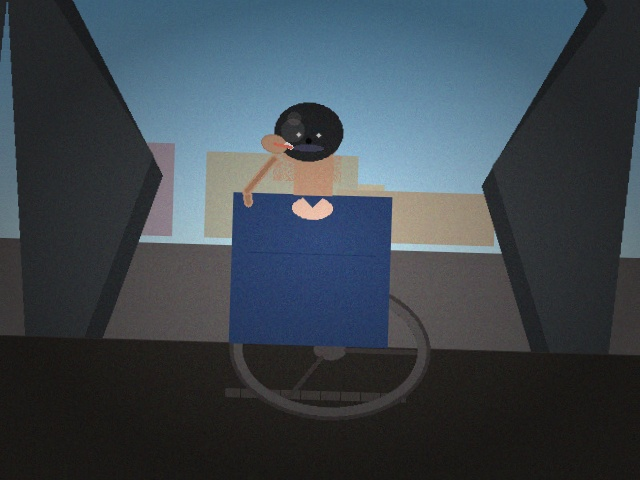smoking: (261, 130, 293, 160)
